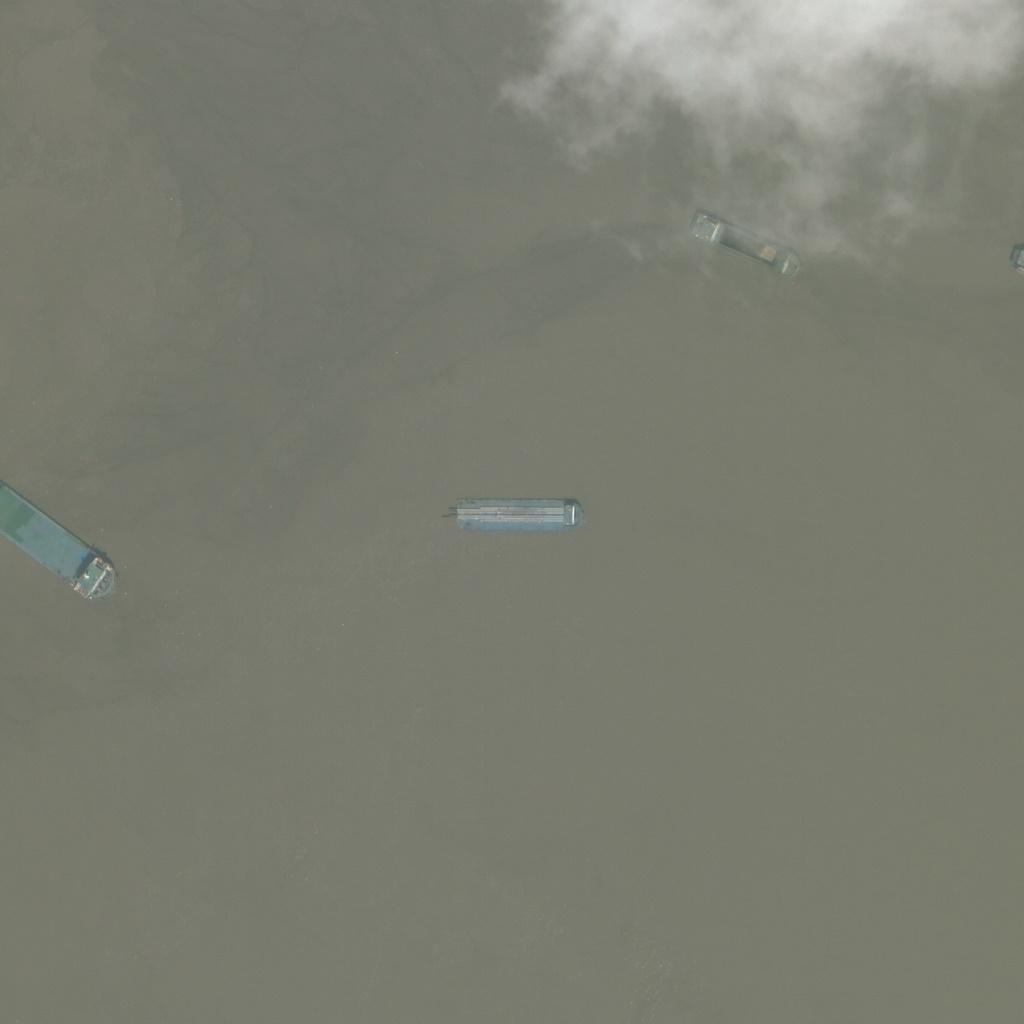ship: (440, 487, 593, 536)
